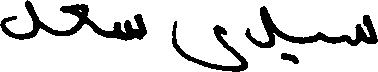د: (244, 3, 275, 70), (0, 0, 39, 40)
س: (344, 13, 375, 46), (112, 11, 145, 41)
ع: (58, 1, 87, 35)
ي: (169, 19, 246, 70), (279, 30, 324, 65)
